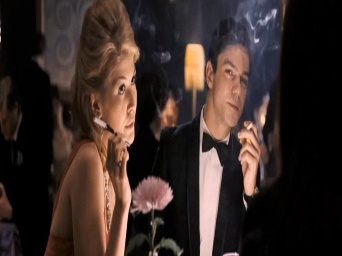smoke: (93, 115, 121, 137), (246, 118, 254, 130)
